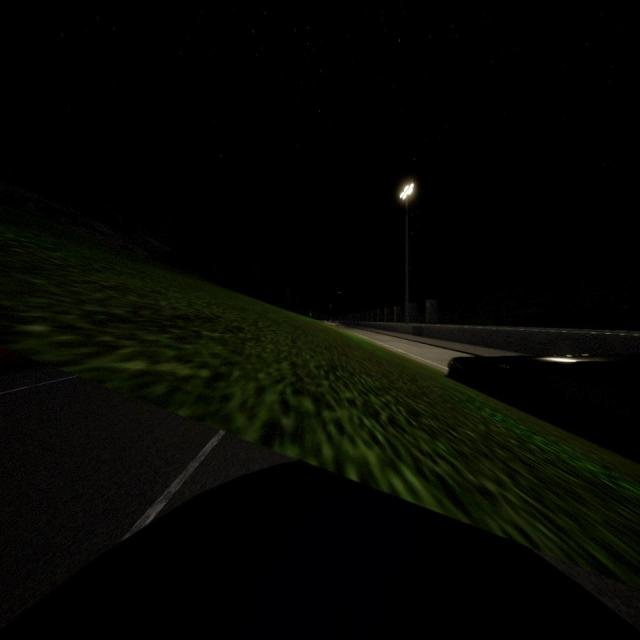Vehicle: (0, 466, 640, 640), (446, 347, 640, 460)
